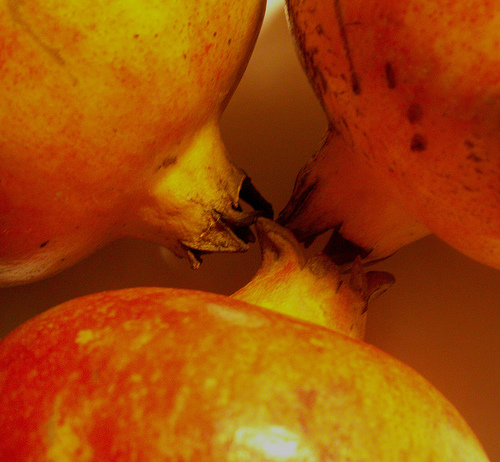pomogranate: (0, 214, 489, 459), (0, 0, 269, 292), (282, 1, 498, 274)
